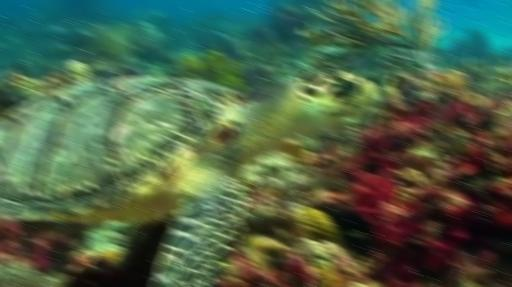Fish: (0, 70, 377, 286)
